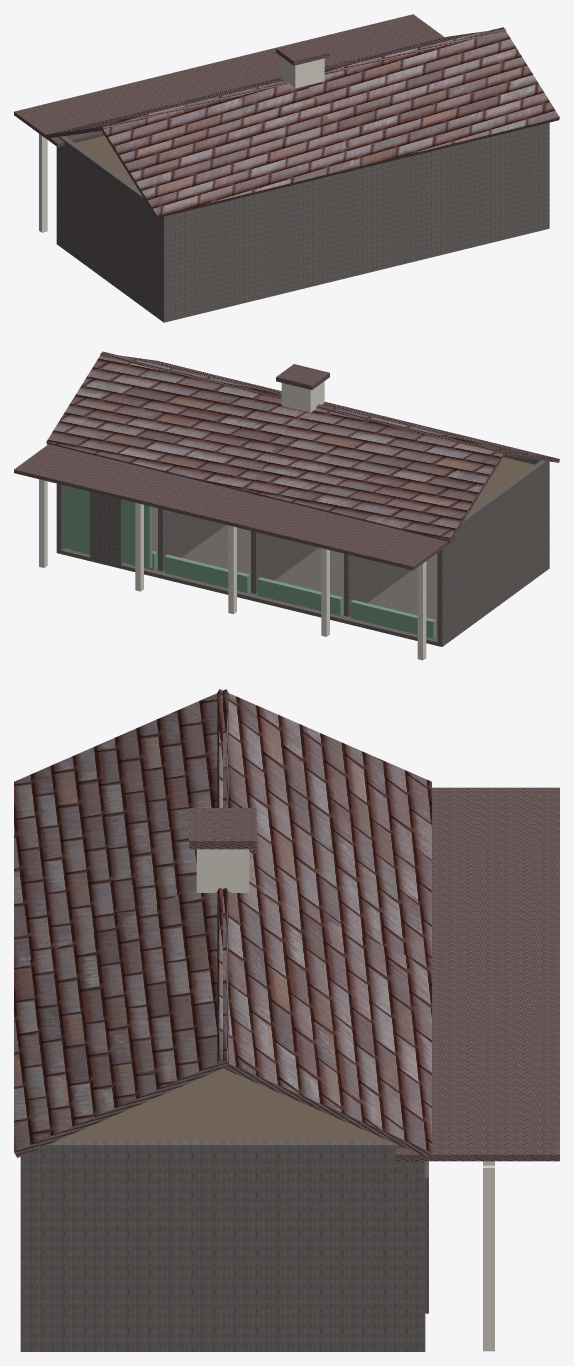
File: barn.glb
3 views of the same model, one above another, from view 1: azimuth 30°, elevation 25°; view 2: azimuth 150°, elevation 25°; view 3: azimuth 270°, elevation 25° (orthographic). The views are drawn at different scales.
Visible parts, largest first — view 1: Barn; view 2: Barn; view 3: Barn.
Boxes of the visible parts, x1=… form: Barn: x1=14, y1=14, x2=559, y2=322; Barn: x1=14, y1=351, x2=559, y2=660; Barn: x1=14, y1=689, x2=559, y2=1351.
Size of the model in its own units: 11.7 by 5.16 by 7.29.
5 materials, 2 textured.
